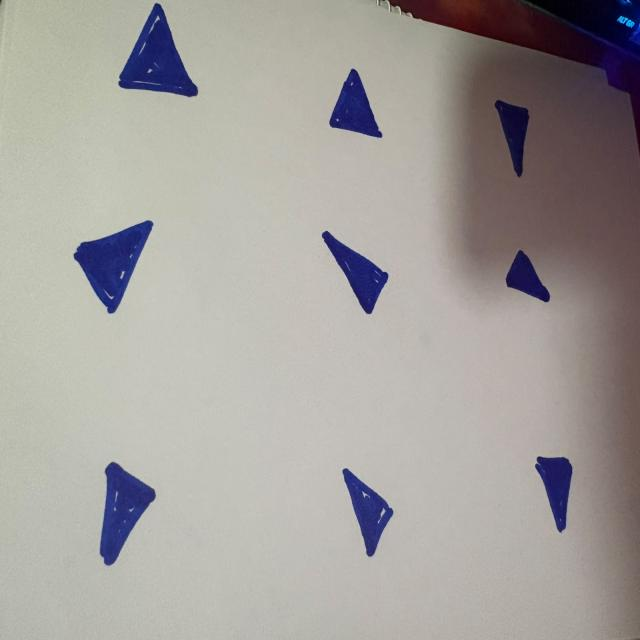Triangle: (119, 3, 198, 97), (74, 220, 153, 313), (100, 462, 155, 565), (322, 231, 388, 313), (343, 469, 393, 556), (330, 69, 382, 138), (535, 456, 572, 532), (495, 100, 529, 177)
